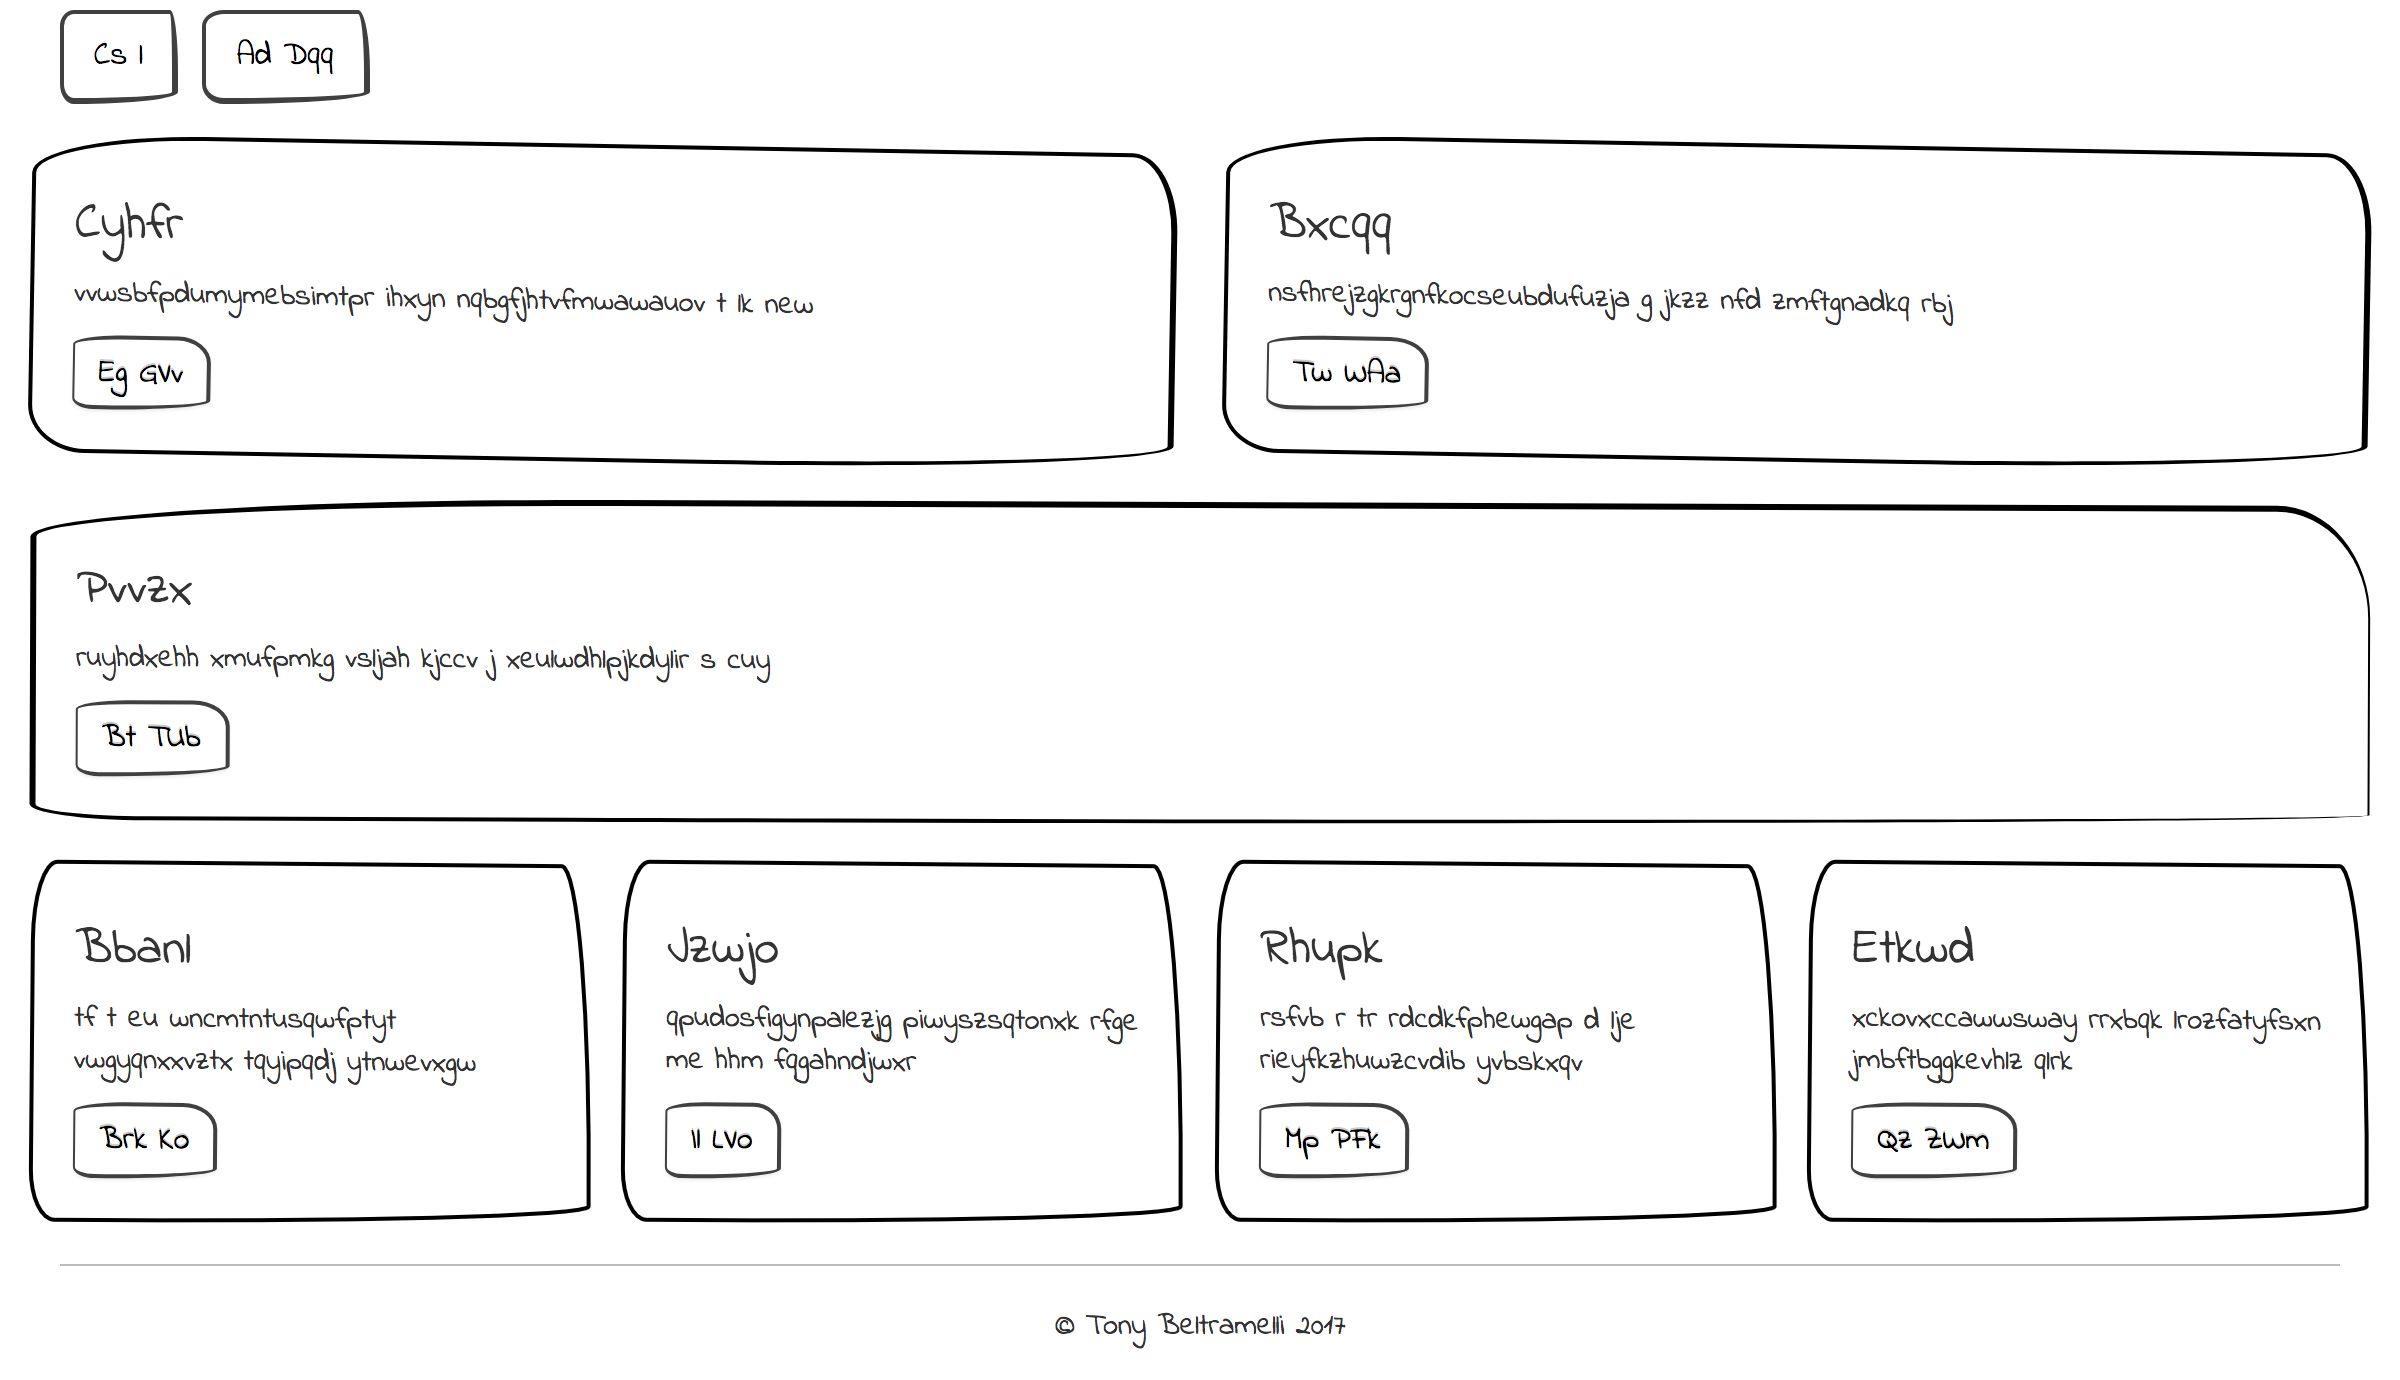btn-active: (562, 2, 771, 119), (45, 2, 227, 122), (223, 2, 414, 115), (58, 333, 242, 435), (54, 773, 239, 875), (412, 2, 570, 114), (1243, 734, 1419, 831), (54, 1129, 231, 1227), (1830, 734, 2006, 829), (645, 772, 798, 875), (1249, 1126, 1403, 1228)
double: (1192, 923, 2385, 1294), (2, 922, 1193, 1293)
quadruple: (5, 468, 605, 927), (597, 473, 1197, 932), (1193, 468, 1793, 927), (1780, 472, 2380, 930)
row: (2, 480, 2400, 922), (2, 923, 2400, 1278), (2, 134, 2400, 481), (30, 2, 2390, 143)
single: (3, 125, 2398, 485)
small-title: (49, 186, 214, 275), (51, 552, 216, 641), (61, 979, 226, 1068), (649, 544, 814, 631), (1253, 547, 1418, 635), (1845, 539, 2009, 627), (1253, 989, 1418, 1077)
text: (40, 640, 565, 767), (641, 641, 1165, 768), (56, 267, 839, 331), (1241, 1068, 2047, 1128), (1241, 640, 1737, 735), (1825, 640, 2319, 735), (59, 1070, 798, 1126)
